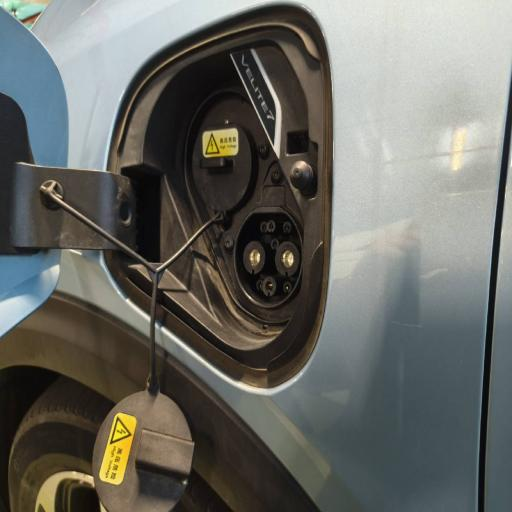DC_hole: (274, 240, 301, 278), (242, 240, 266, 276)
PE: (262, 276, 277, 298)
charging_port: (232, 205, 304, 310)
